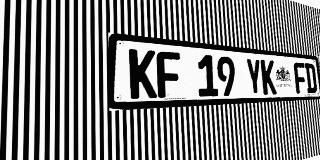1: (197, 54, 218, 97)
9: (217, 56, 236, 96)
D: (304, 63, 317, 93)
F: (156, 51, 182, 98), (293, 62, 307, 94)
K: (129, 49, 157, 99), (260, 59, 277, 95)
Y: (245, 58, 263, 95)
